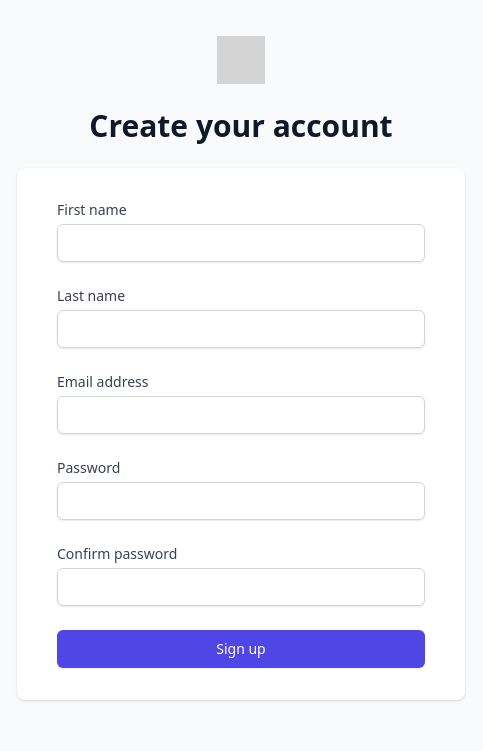
Test case: error states › if user submits form with empty fields
The width and height of the screenshot is (483, 751).
What coordinates should you click on to do the following:
click the button "Sign up"
I would click on:
 (241, 649)
Its box is [57,630,425,668].
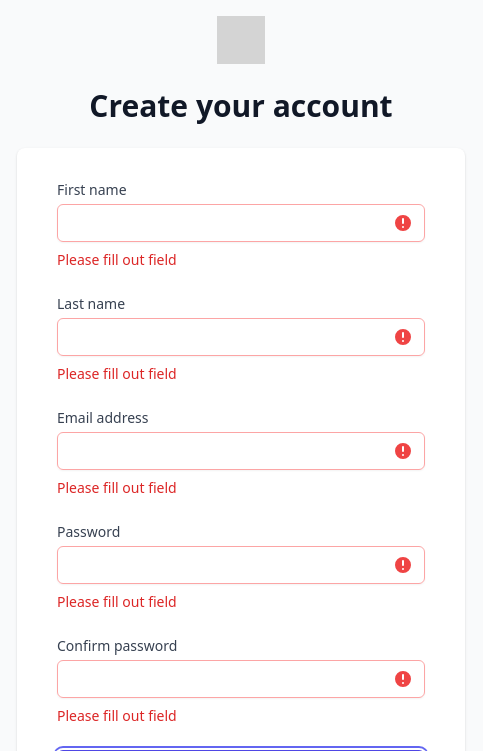
Now the text "Please fill out field" is shown 5 times, box [57,250,177,269]; [57,364,177,383]; [57,478,177,497]; [57,592,177,611]; [57,706,177,725]
